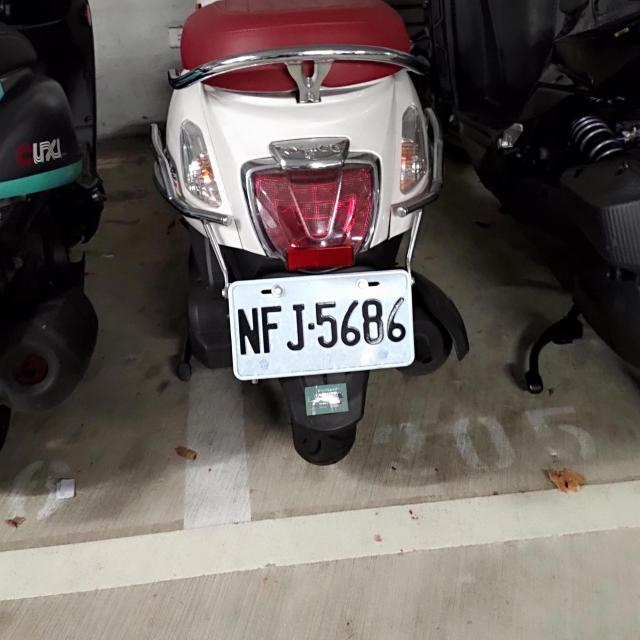W: (228, 266, 416, 381)
